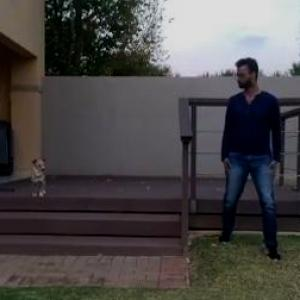follow: (218, 51, 278, 270)
